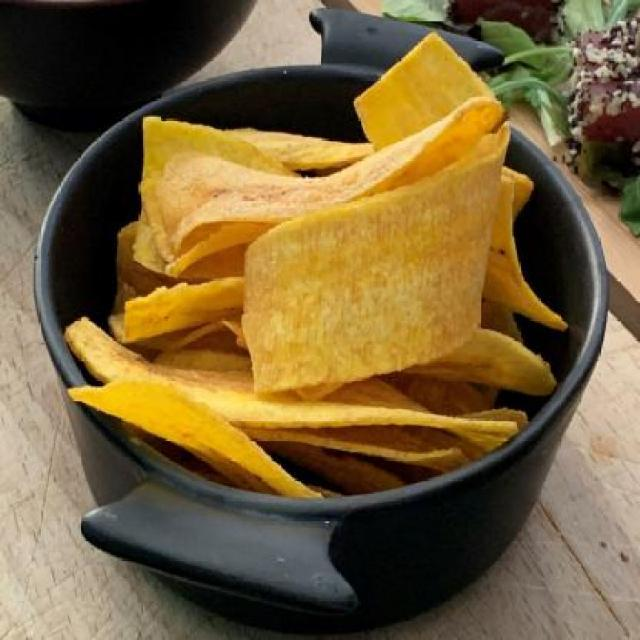Chips packaged: (98, 110, 558, 492)
